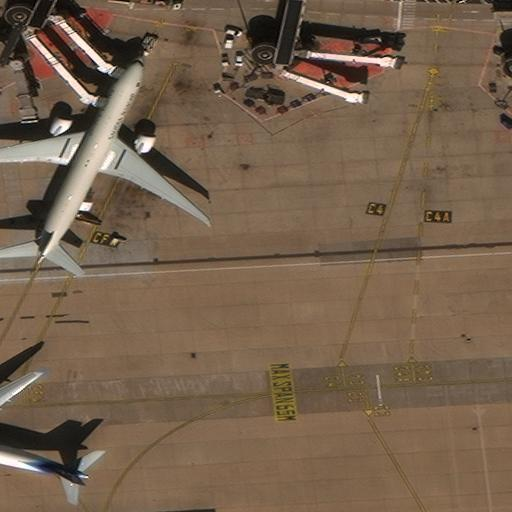Large Civil Transport: (0, 56, 211, 262), (0, 369, 88, 511)
